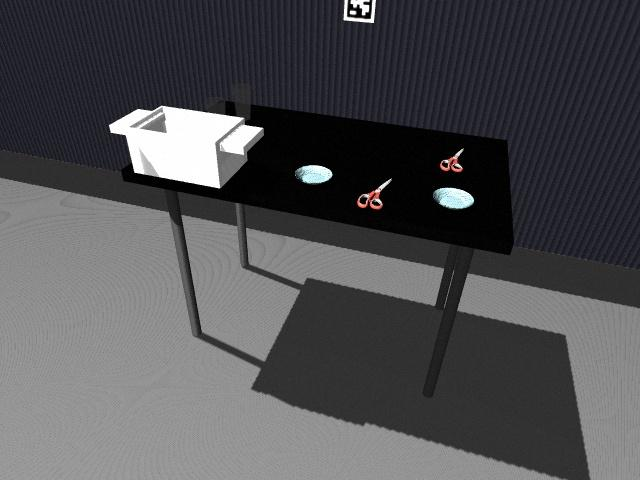cup: (230, 83, 251, 119), (204, 96, 225, 117)
plate: (432, 186, 477, 210), (294, 164, 333, 184)
scissors: (356, 177, 391, 210), (441, 146, 465, 172)
